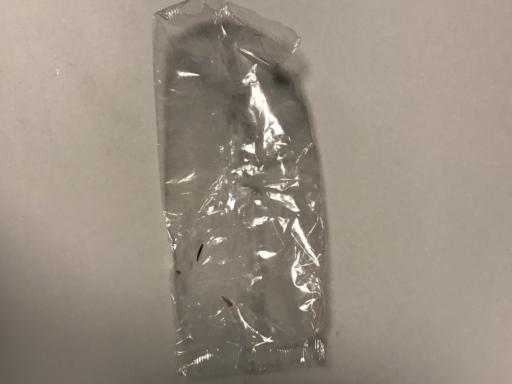trash: (153, 4, 335, 377)
